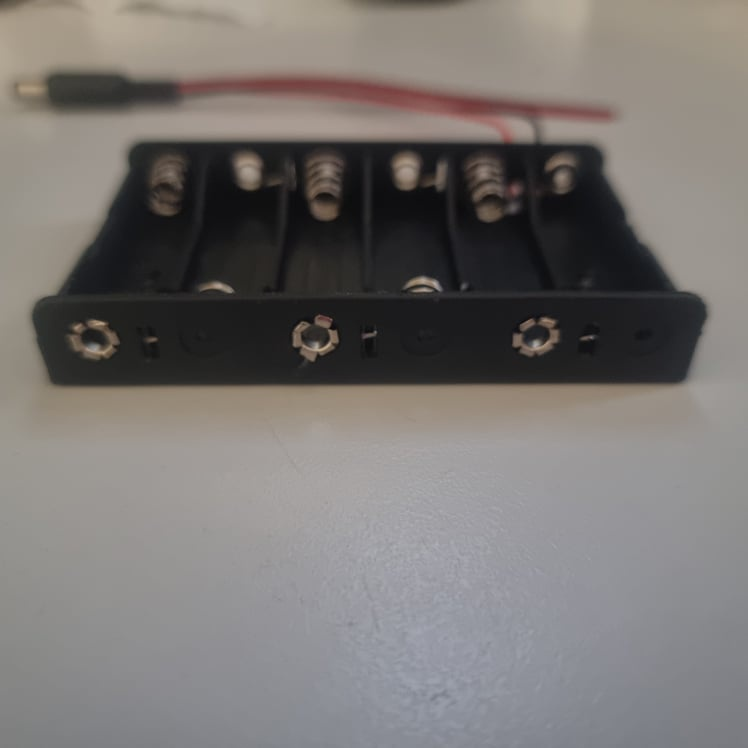BATTERY BOX: (38, 130, 708, 390)
